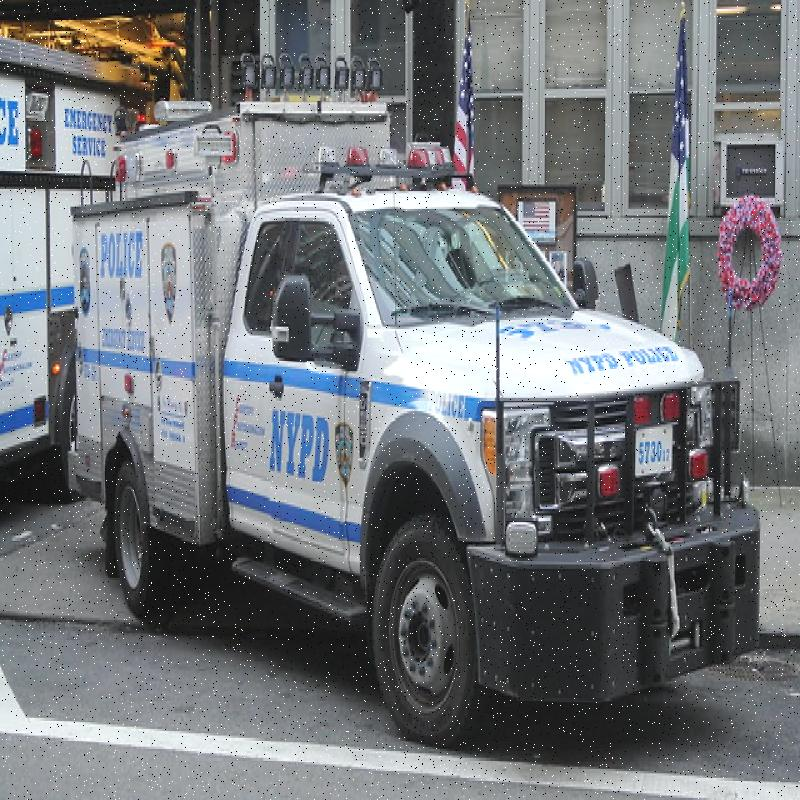ambulance: (56, 117, 768, 782)
